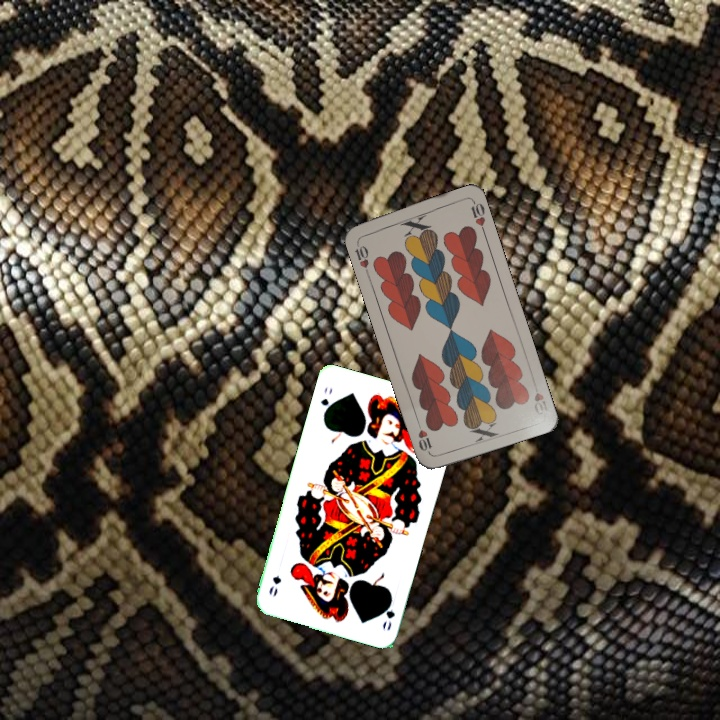GO: (379, 592, 397, 633), (316, 383, 335, 420)
H10: (529, 377, 551, 418), (351, 237, 371, 277)
